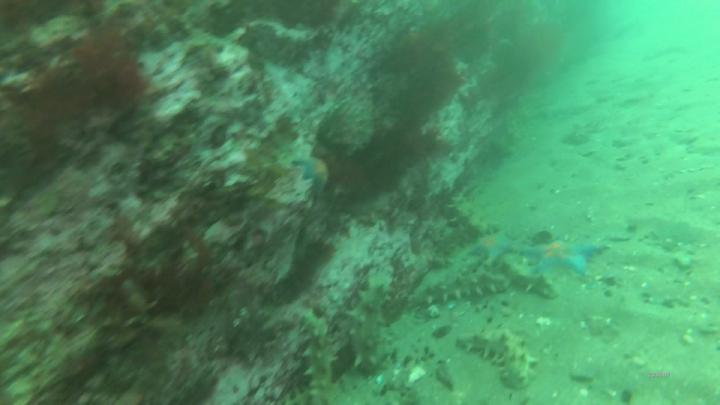holothurian: (456, 322, 536, 392), (349, 275, 392, 379), (298, 308, 338, 405), (407, 272, 509, 308), (504, 253, 562, 304), (442, 195, 491, 236)
starfish: (527, 234, 609, 280), (466, 229, 527, 267), (294, 154, 337, 193)
